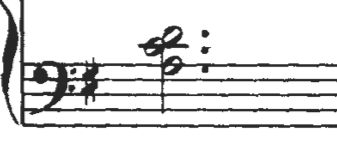bass_clef: (27, 48, 81, 128)
sharp: (80, 58, 102, 106)
